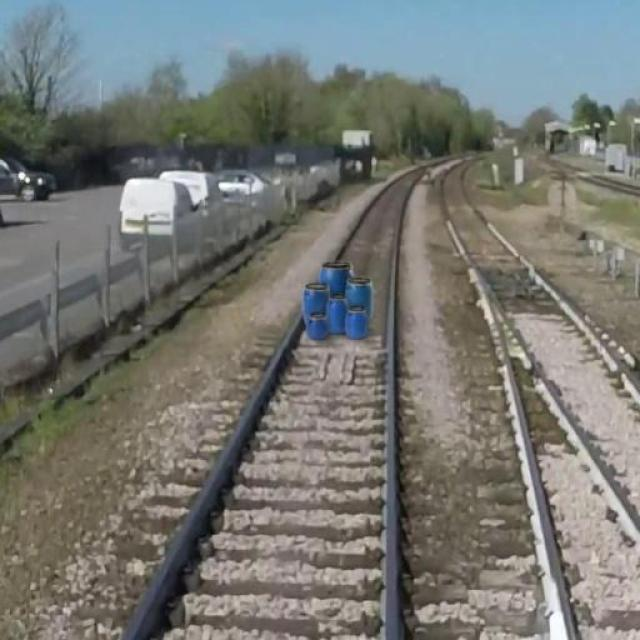Other_objects: (300, 259, 375, 344)
